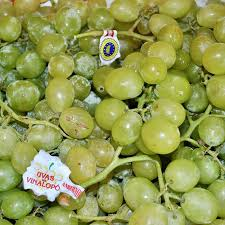Green grapes: (92, 51, 204, 154), (117, 156, 218, 225)
